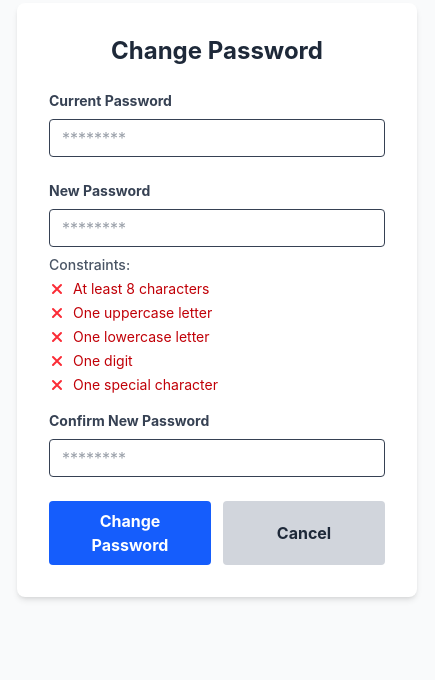
it: ChangePasswordPage › should navigate to homepage after 2 seconds on successful password change
Type "OldPass123!" into the password field labelled "Current Password" at [217, 138], box top-left (49, 119), bottom-right (385, 157)
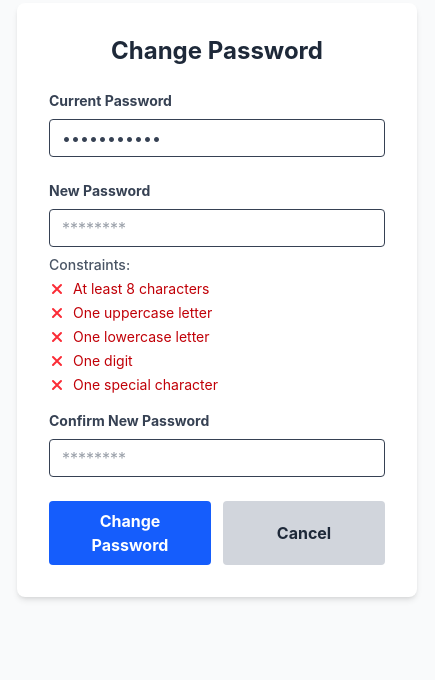
Type "NewPass123!" into the password field labelled "New Password" at [217, 228], box top-left (49, 209), bottom-right (385, 247)
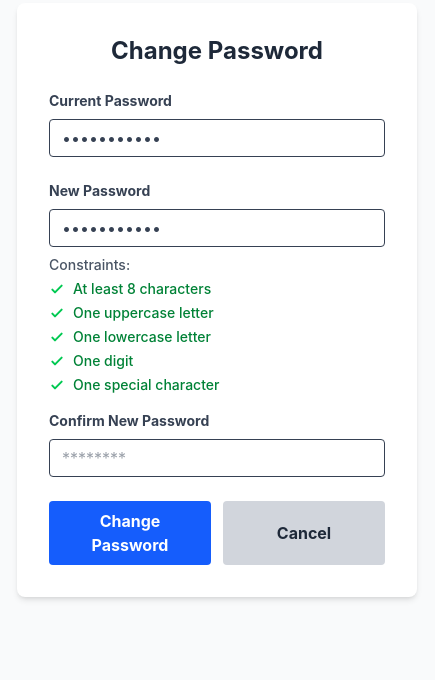
Type "NewPass123!" into the password field labelled "Confirm New Password" at [217, 458], box top-left (49, 439), bottom-right (385, 477)
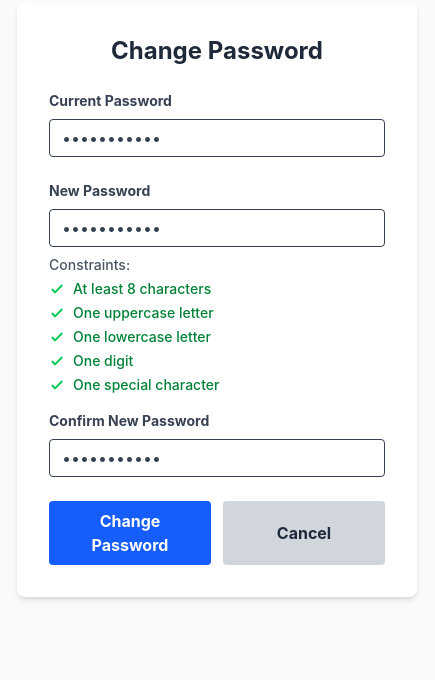
Click the button "Change Password" at [130, 533], box top-left (49, 501), bottom-right (211, 565)
Wait 2000 ms
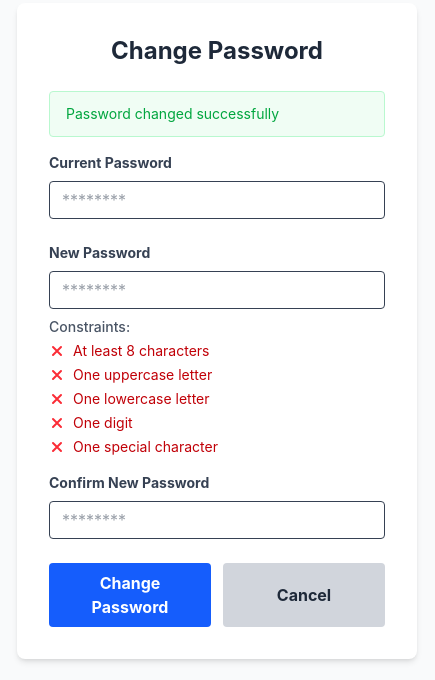
Now the text "Password changed successfully" is shown, box top-left (66, 105), bottom-right (279, 122)
